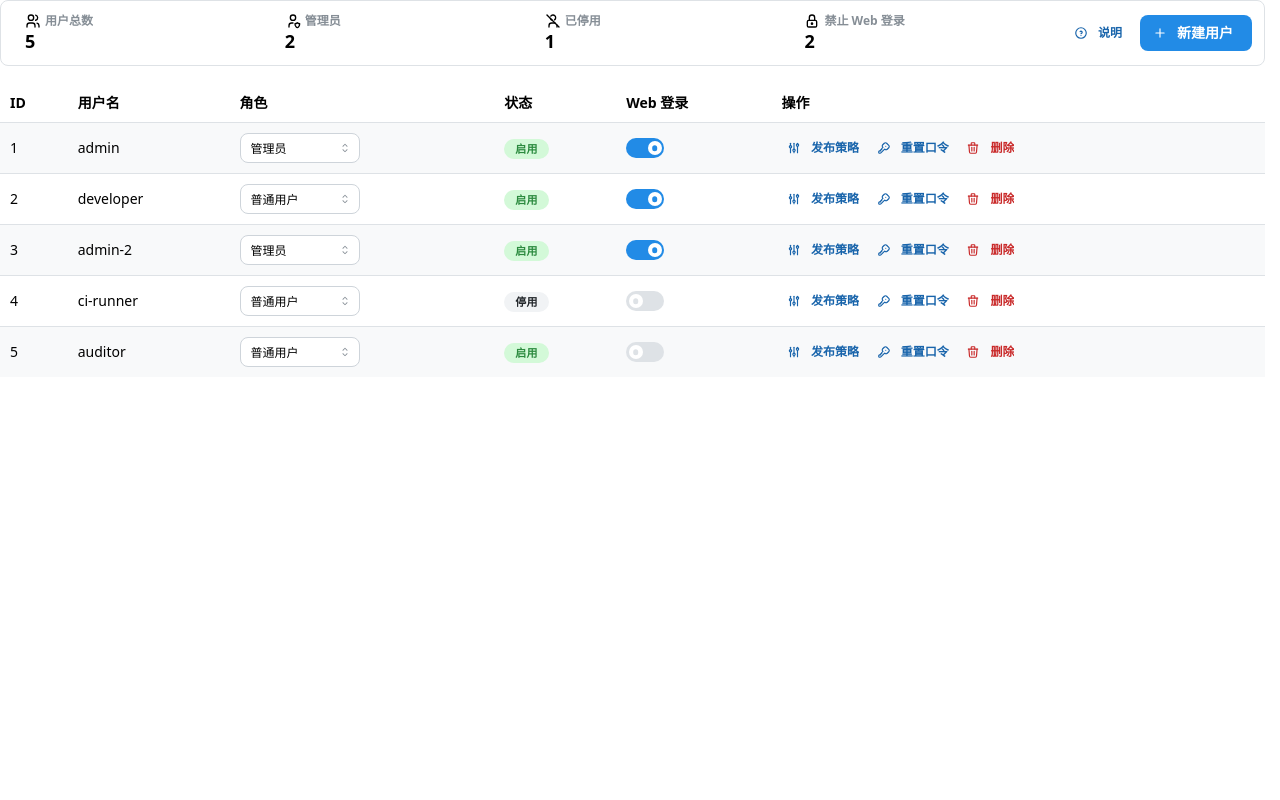
it: 用户管理 › 整体拒绝时保留编辑内容并展示后端错误
Check: the text "admin" is shown, box x1=78 y1=138 x2=120 y2=157
Click the 1st button "发布策略" at (824, 148), box x1=781 y1=137 x2=867 y2=159
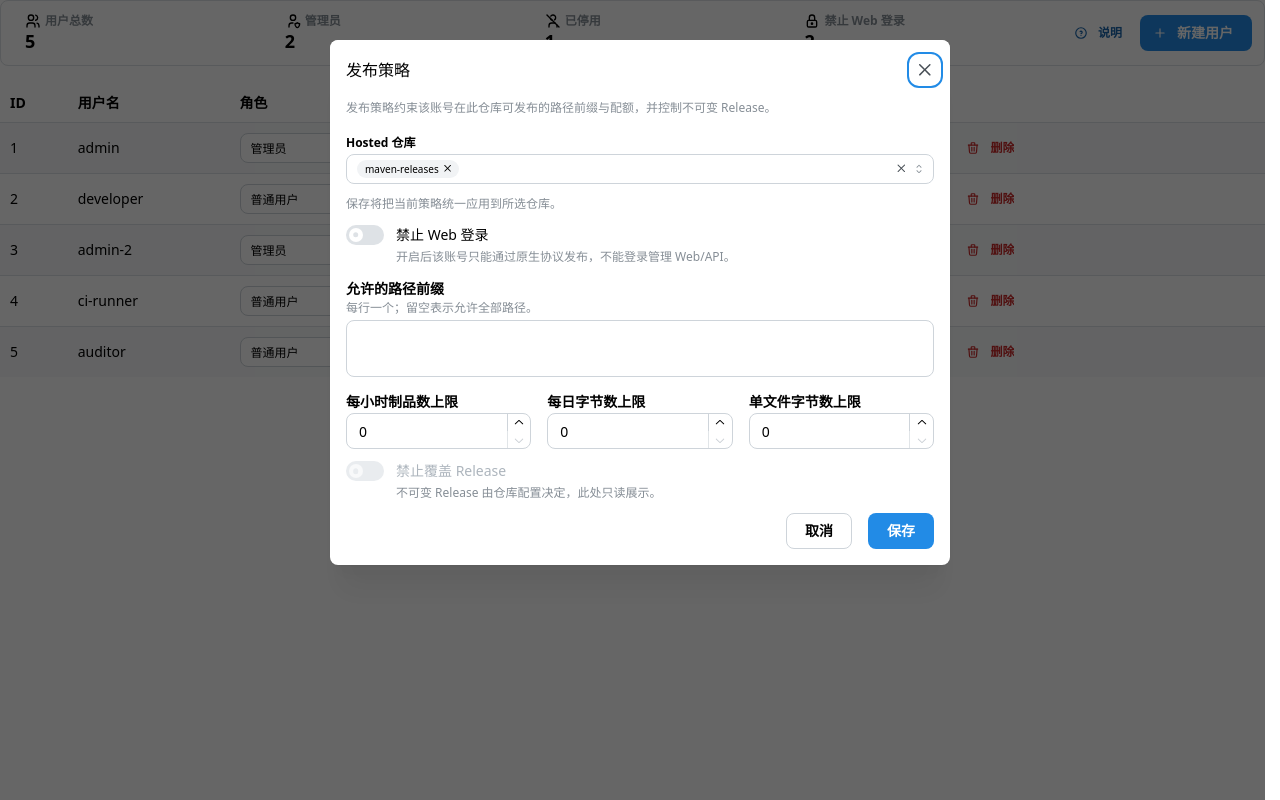
Check: the text "允许的路径前缀" is shown, box x1=346 y1=278 x2=444 y2=300
Type "restricted" into the text box labelled "允许的路径前缀" at (640, 348), box x1=346 y1=320 x2=934 y2=377
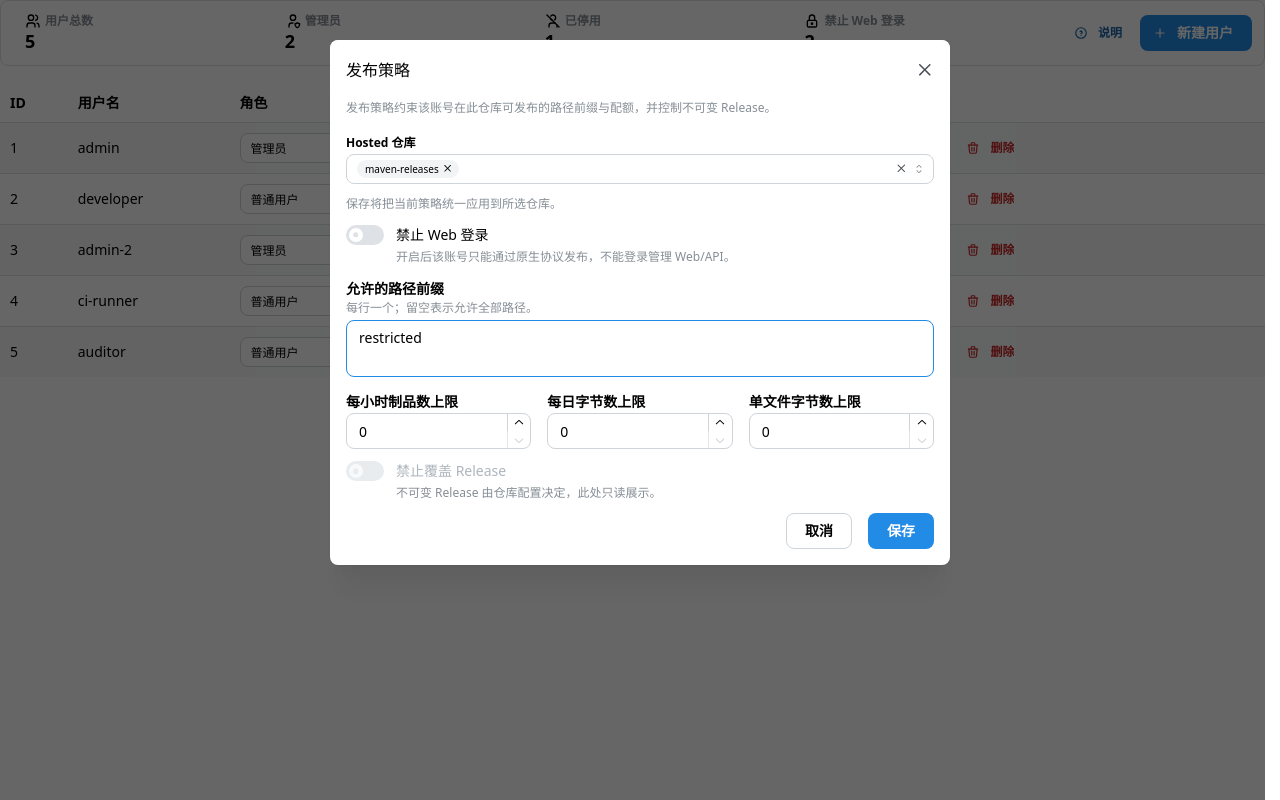
Click the button "保存" at (901, 531), box x1=868 y1=513 x2=934 y2=549
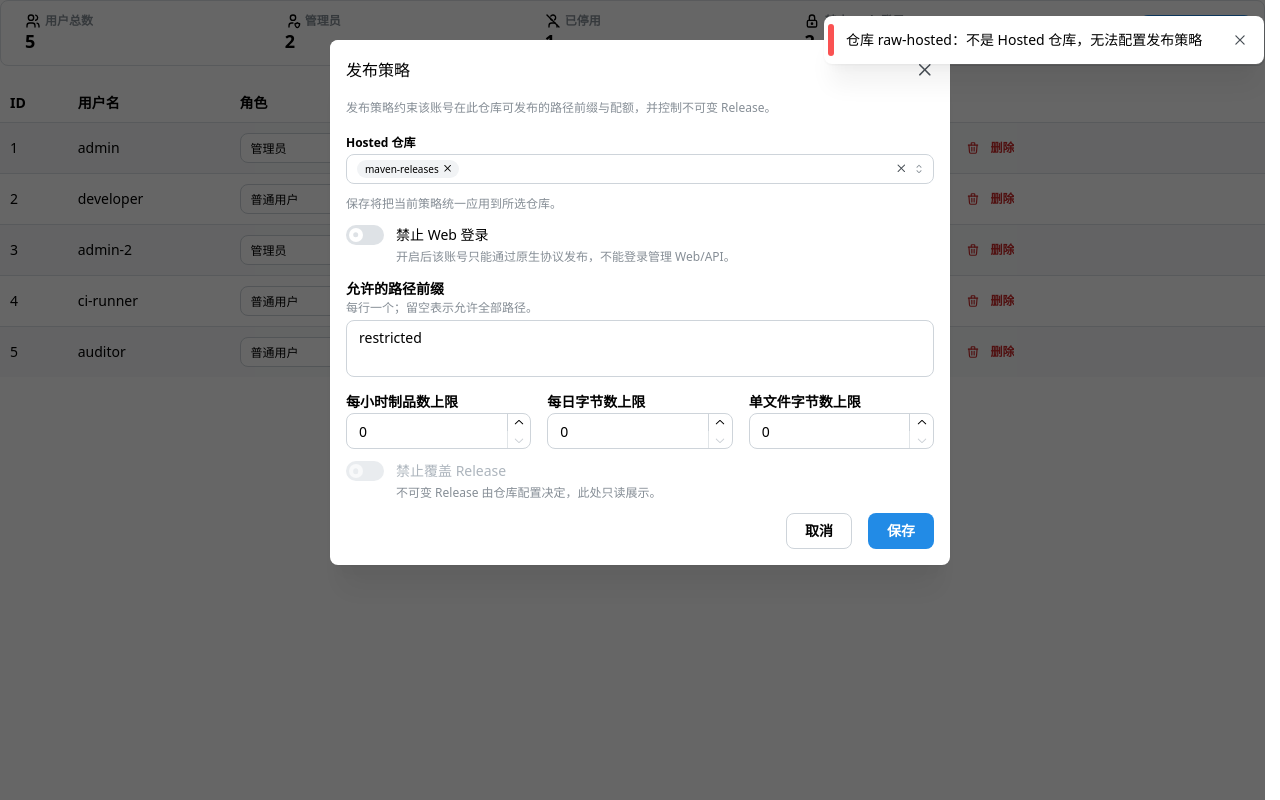
Check: the button "保存" is shown, box x1=868 y1=513 x2=934 y2=549
Check: the text "仓库 raw-hosted：不是 Hosted 仓库，无法配置发布策略" is shown, box x1=846 y1=30 x2=1216 y2=50
